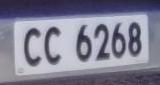2: (93, 18, 113, 68)
6: (73, 19, 95, 69), (110, 18, 128, 65)
8: (127, 18, 145, 63)
C: (42, 21, 67, 71), (20, 24, 45, 73)
